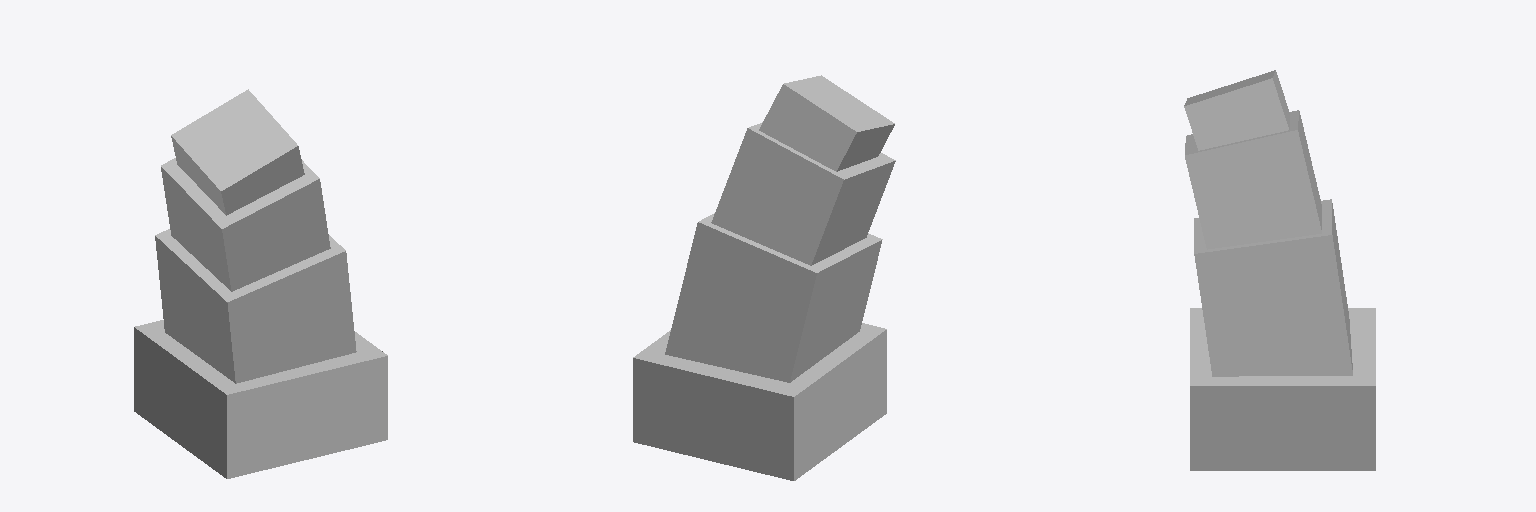
The model's file is pillar_sw.obj.
3 views of the same model, side by side, from view 1: azimuth 30°, elevation 25°; view 2: azimuth 150°, elevation 25°; view 3: azimuth 270°, elevation 25° (orthographic).
Visible parts, largest first — view 1: base, second, third, top; view 2: base, second, third, top; view 3: base, second, third, top.
Part boxes in pixels (bbox=[...]): base: bbox=[134, 320, 387, 478]; second: bbox=[155, 229, 356, 383]; third: bbox=[161, 158, 330, 291]; top: bbox=[171, 89, 304, 215]; base: bbox=[633, 323, 886, 480]; second: bbox=[665, 213, 882, 382]; third: bbox=[711, 122, 895, 265]; top: bbox=[759, 75, 894, 171]; base: bbox=[1190, 308, 1375, 470]; second: bbox=[1194, 199, 1352, 376]; third: bbox=[1185, 110, 1321, 249]; top: bbox=[1184, 70, 1289, 150].
Bounding box in the file's own units: 1.08 × 2.04 × 1.03.